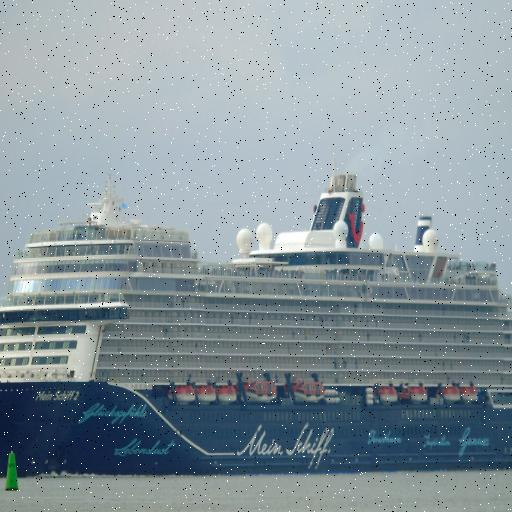cruises: (1, 168, 512, 489)
